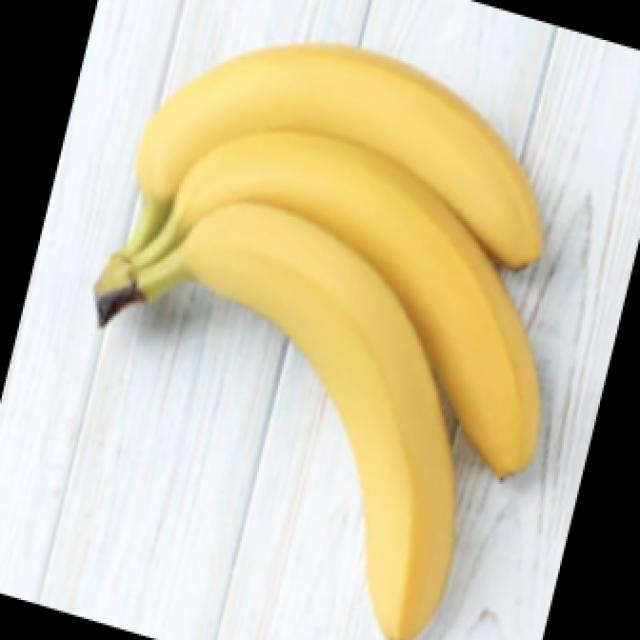god quality banana: (95, 46, 541, 639)
